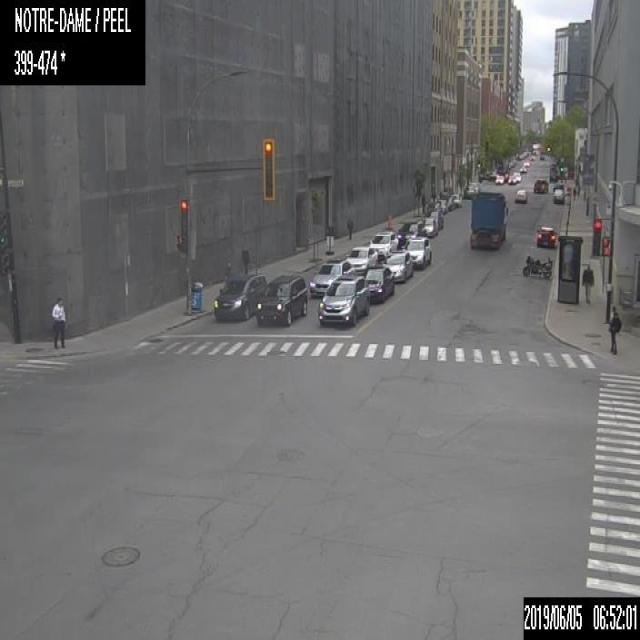construction: (325, 224, 334, 253), (387, 213, 392, 228)
pedestrian: (50, 297, 65, 348), (608, 307, 620, 353), (581, 264, 593, 301), (240, 244, 248, 275), (224, 260, 232, 286), (347, 216, 353, 239), (572, 184, 580, 200), (420, 190, 425, 214), (431, 190, 436, 202)
vehicle: (317, 274, 368, 325), (255, 275, 307, 325), (213, 274, 266, 320), (470, 192, 507, 250), (309, 260, 356, 297), (364, 266, 393, 302), (382, 250, 412, 282), (402, 237, 431, 268), (345, 246, 377, 274), (368, 230, 396, 258), (396, 221, 425, 245), (522, 255, 552, 277), (536, 225, 556, 247), (427, 210, 443, 228), (421, 218, 436, 235), (534, 177, 547, 192), (551, 188, 564, 202), (436, 198, 447, 214), (427, 202, 440, 214), (442, 197, 454, 210), (514, 188, 526, 200), (450, 193, 461, 206), (468, 182, 478, 192), (464, 186, 473, 197), (552, 182, 564, 190), (494, 174, 504, 183), (508, 174, 516, 183), (512, 172, 520, 181), (519, 165, 526, 172), (539, 155, 544, 160)
